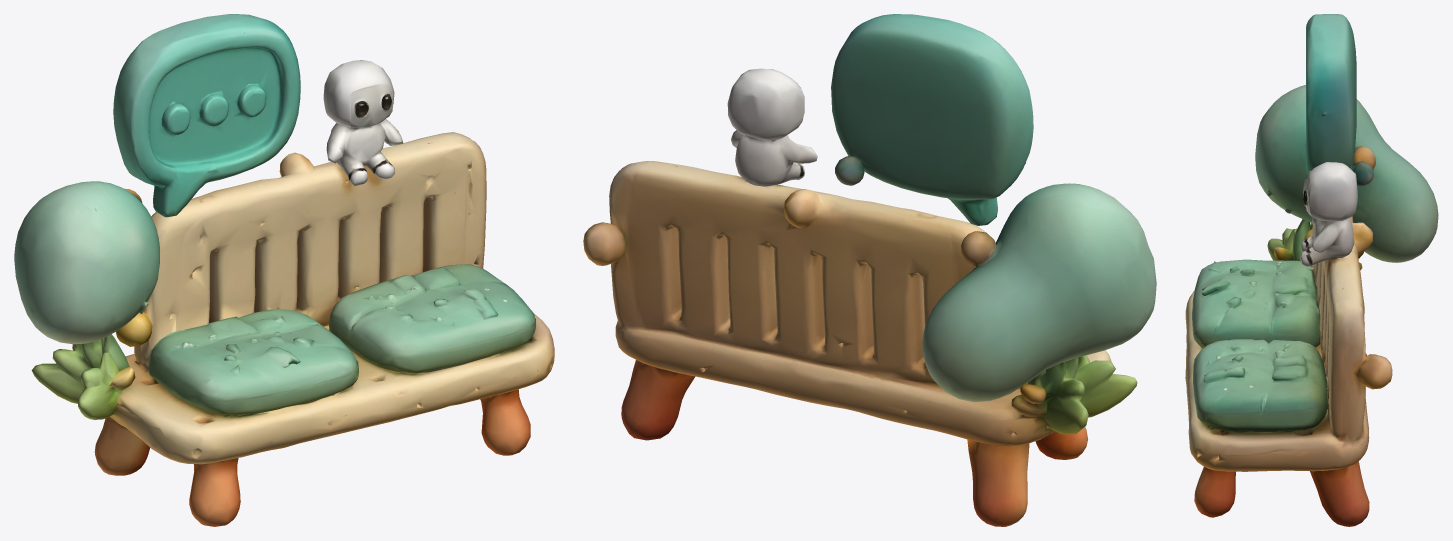
Rendered from planner.glb.
3 renders of one model, left to right at view 1: azimuth 30°, elevation 25°; view 2: azimuth 150°, elevation 25°; view 3: azimuth 270°, elevation 25°, orthographic. The views are drawn at different scales.
Parts seen in each view (by area): view 1: tripo_node_adb48a17-8f18-49da-b64e-e731b8844e36; view 2: tripo_node_adb48a17-8f18-49da-b64e-e731b8844e36; view 3: tripo_node_adb48a17-8f18-49da-b64e-e731b8844e36.
Boxes of the visible parts, x1=… form: tripo_node_adb48a17-8f18-49da-b64e-e731b8844e36: x1=14, y1=14, x2=554, y2=526; tripo_node_adb48a17-8f18-49da-b64e-e731b8844e36: x1=583, y1=14, x2=1156, y2=526; tripo_node_adb48a17-8f18-49da-b64e-e731b8844e36: x1=1185, y1=14, x2=1438, y2=526.
Size of the model in its own units: 0.9784 by 0.8454 by 0.5029.
1 material, 1 textured.
